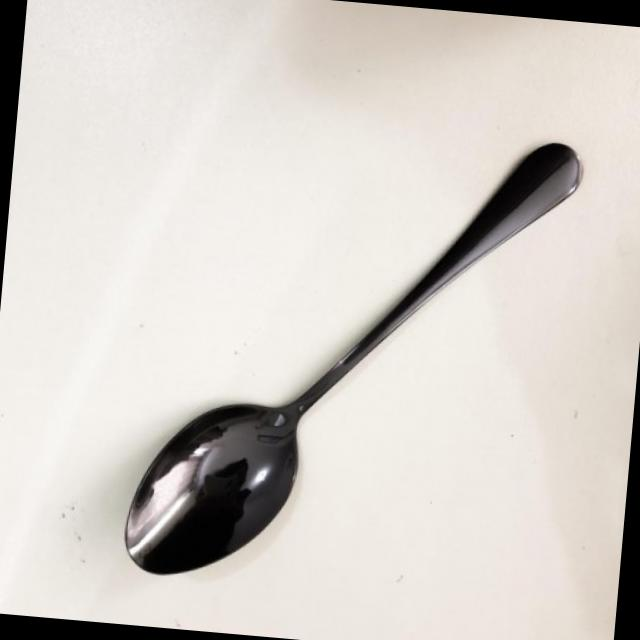spoon: (110, 76, 592, 614)
